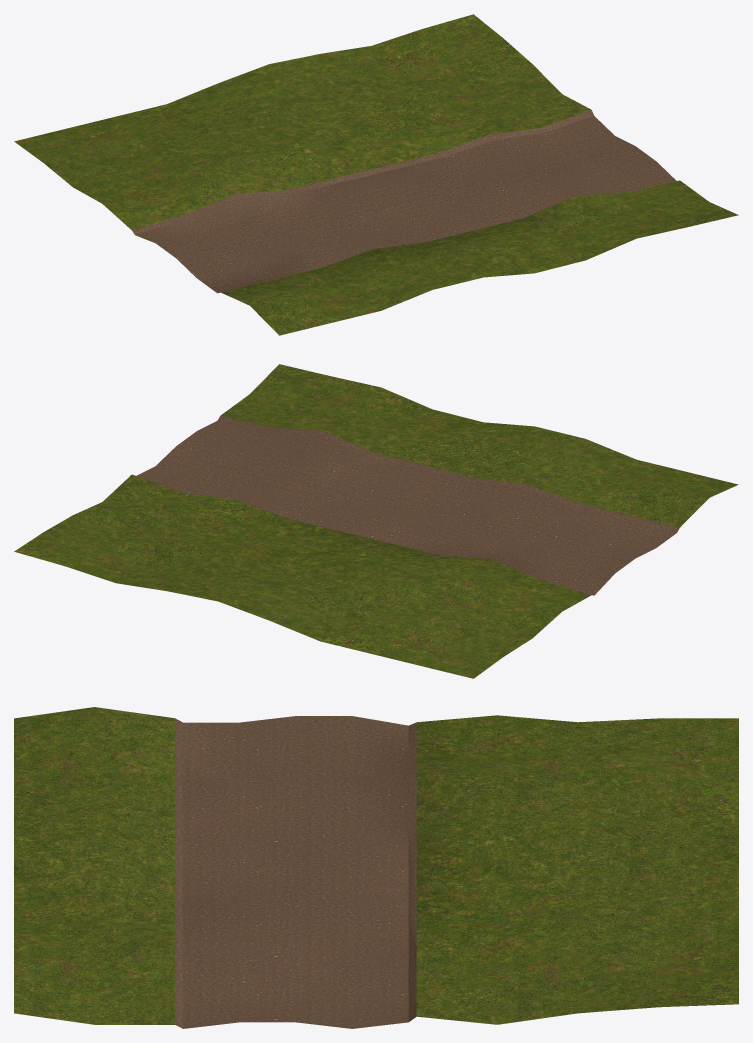
The model's file is ground.glb.
3 views of the same model, one above another, from view 1: azimuth 30°, elevation 25°; view 2: azimuth 150°, elevation 25°; view 3: azimuth 270°, elevation 25° (orthographic). The views are drawn at different scales.
Visible parts, largest first — view 1: Plane; view 2: Plane; view 3: Plane.
Boxes of the visible parts, left/top/right/bottom form: Plane: left=14, top=14, right=738, bottom=335; Plane: left=14, top=364, right=738, bottom=678; Plane: left=14, top=707, right=738, bottom=1028.
Bounding box in the file's own units: 4 × 0.1687 × 4.
Materials: 2 (2 with a texture image).
